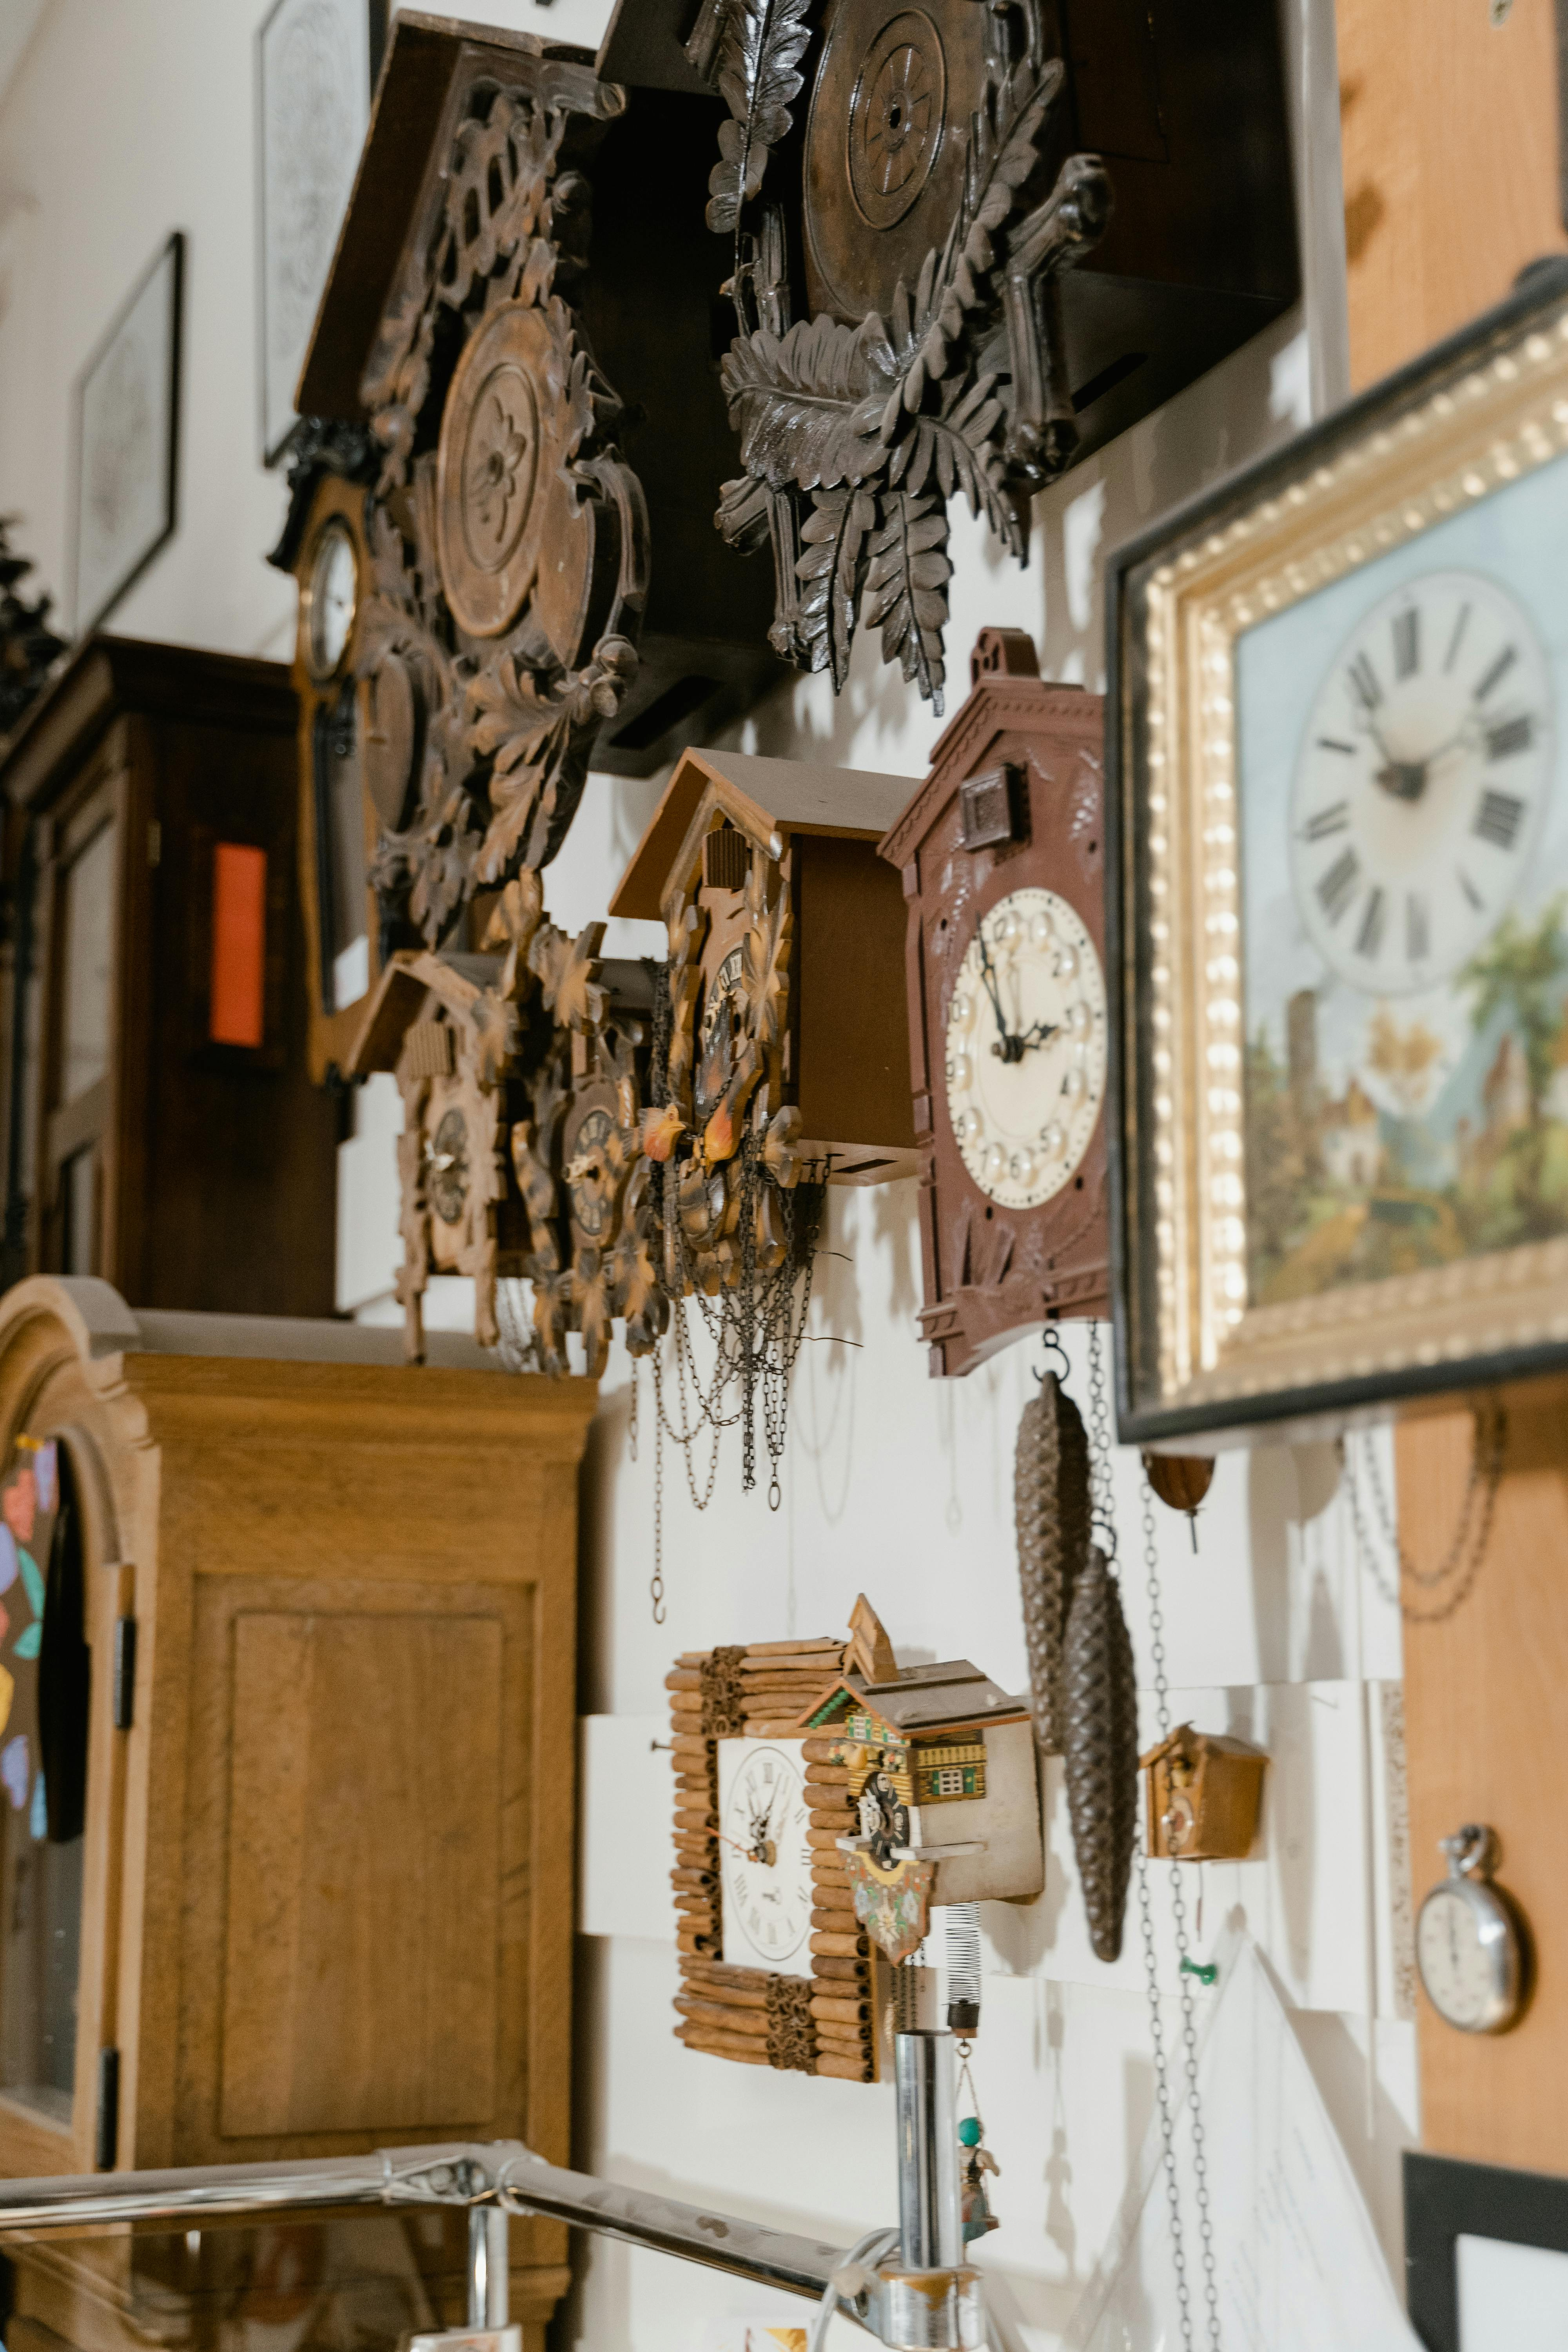clock: (845, 801, 1206, 1214)
